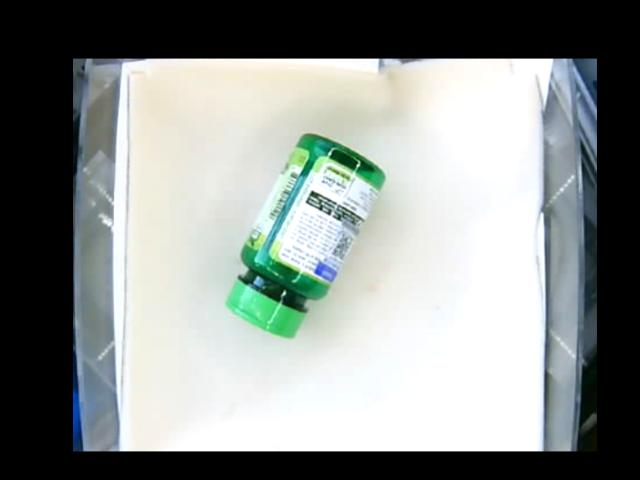Bottle: (224, 132, 385, 340)
